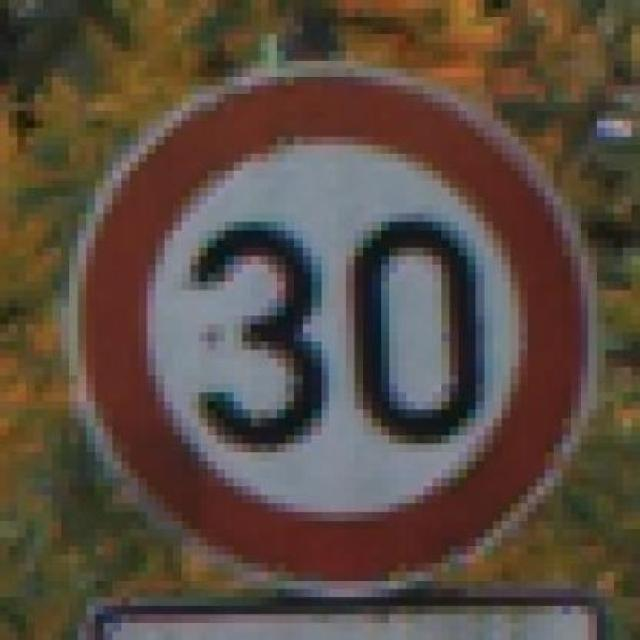Speed Limit 30 KMPh: (17, 34, 606, 589)
